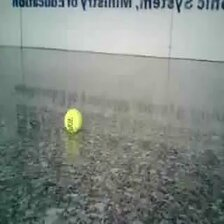tennis: (63, 108, 84, 135)
